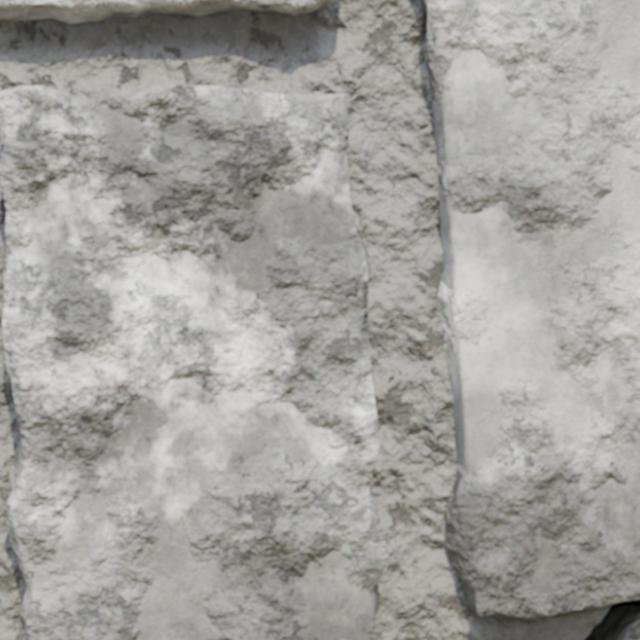brick: (0, 83, 387, 639), (422, 0, 639, 619), (0, 0, 336, 23)
crack: (583, 599, 639, 639)
